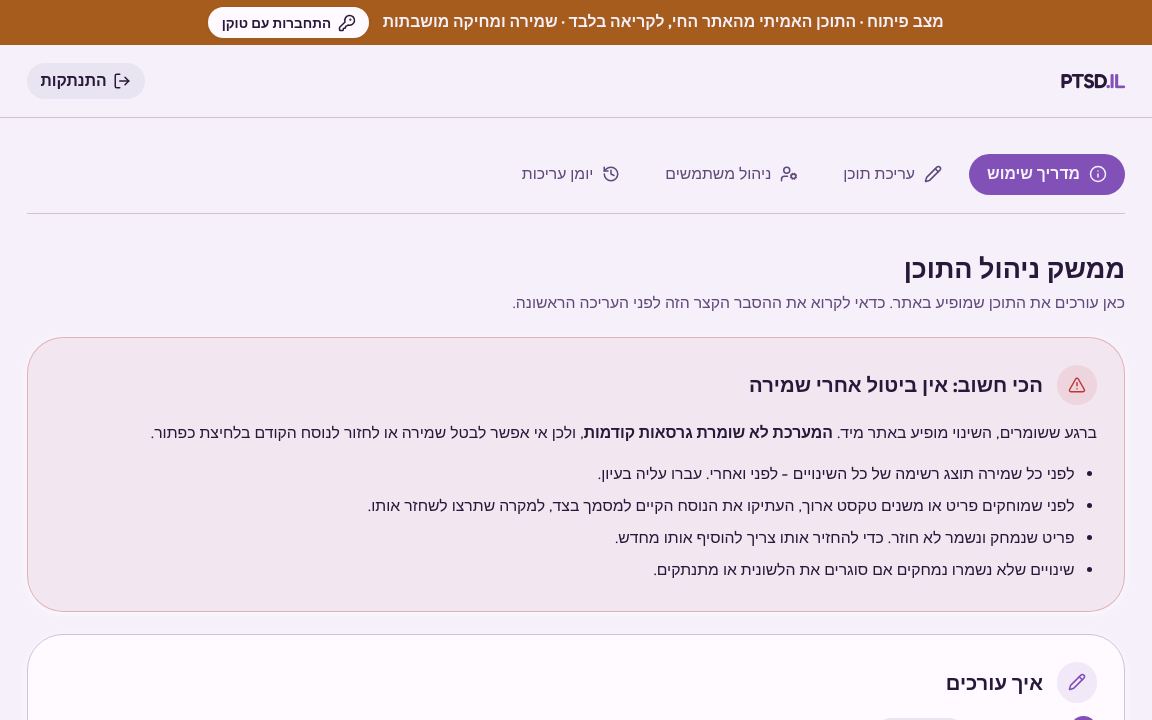
Test case: admin: frame and home page › shows the edit log to masteradmin
The width and height of the screenshot is (1152, 720).
Click the button "יומן עריכות": coordinates (571, 174) top-left (504, 154), bottom-right (638, 194)
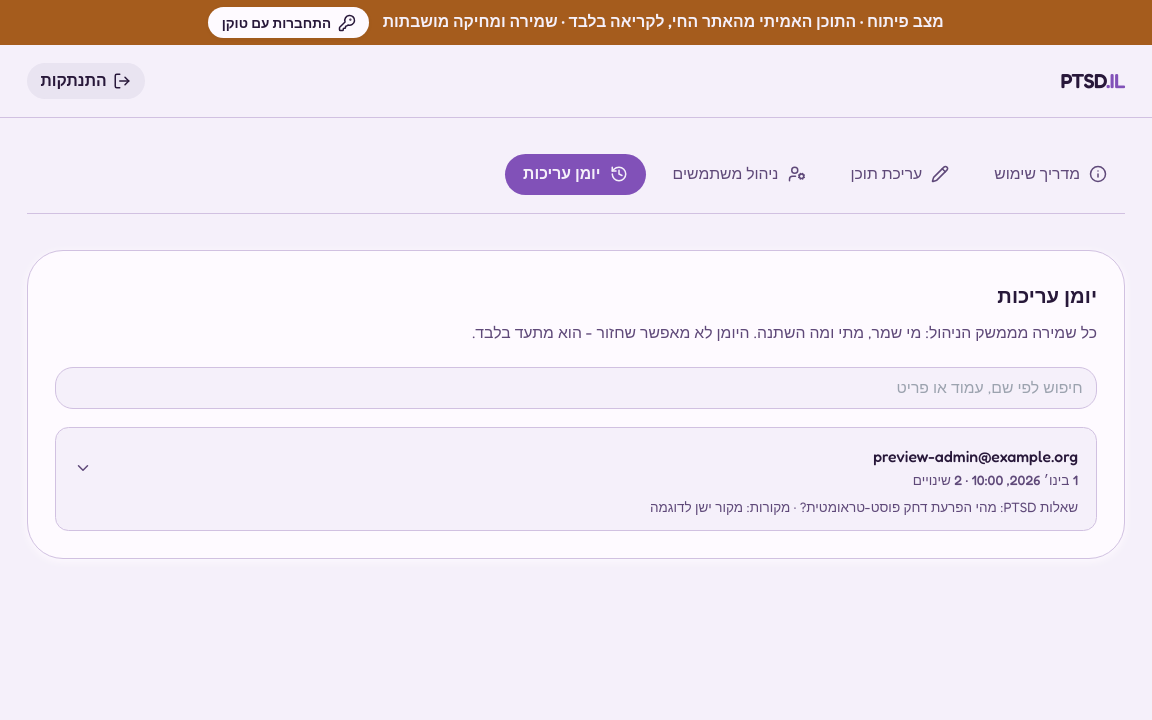
Result: the text "שאלות PTSD: מהי הפרעת דחק" is shown at top-left (650, 499), bottom-right (1078, 515)
Result: the text "preview-admin@example.org" is shown at top-left (873, 446), bottom-right (1078, 469)
